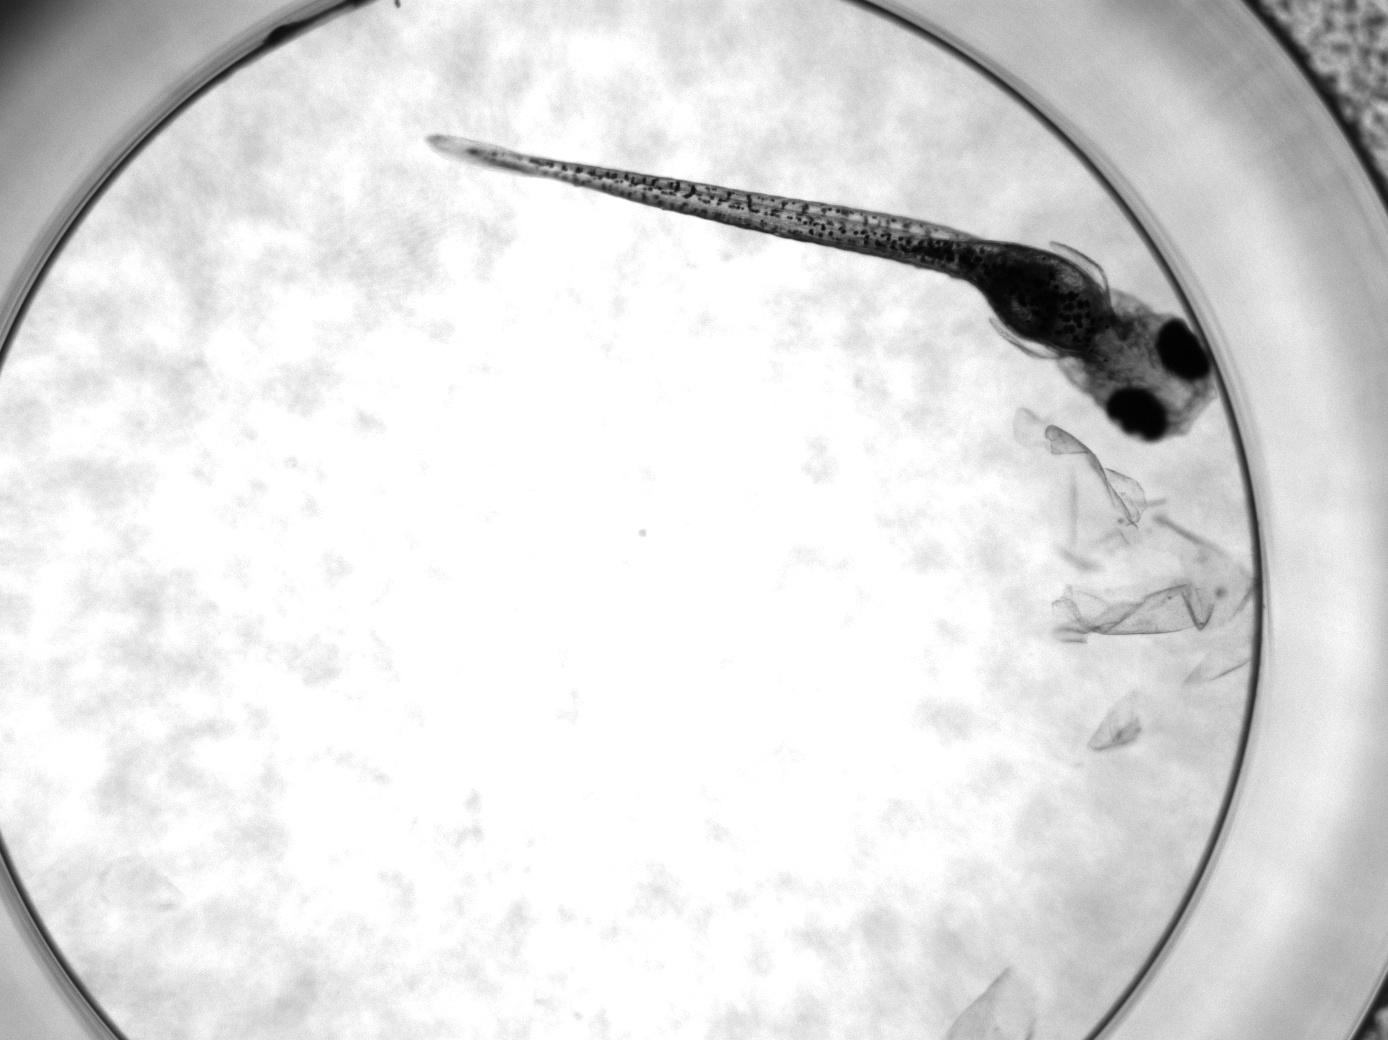debris: (1039, 423, 1259, 641)
embryo: (460, 144, 1218, 444)
eye: (1156, 319, 1214, 385), (1105, 388, 1173, 444)
yolksac: (957, 231, 1106, 361)
